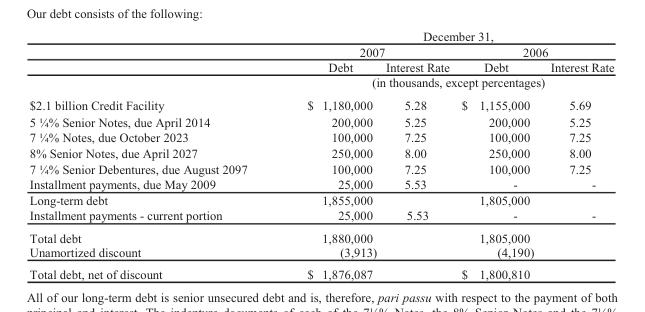table: (28, 28, 613, 280)
table column: (28, 28, 276, 280), (276, 28, 380, 280), (454, 28, 541, 280), (380, 28, 454, 280), (541, 28, 613, 280)
table column header: (28, 28, 613, 93)
table row: (28, 93, 613, 113), (28, 74, 613, 93), (28, 207, 613, 226), (28, 226, 613, 244), (28, 244, 613, 262), (28, 262, 613, 280), (28, 43, 613, 59), (28, 113, 613, 129), (28, 144, 613, 160), (28, 160, 613, 176), (28, 191, 613, 207), (28, 28, 613, 43), (28, 59, 613, 74), (28, 129, 613, 144), (28, 176, 613, 191)
table spanning cell: (276, 74, 613, 93), (276, 28, 613, 43), (276, 43, 454, 59), (454, 43, 613, 59)
